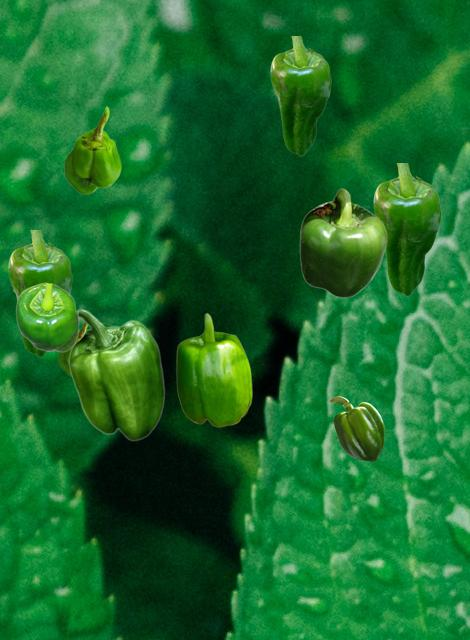bell_pepper: (68, 309, 164, 440), (299, 188, 386, 297), (373, 163, 440, 295), (176, 313, 251, 426), (8, 230, 71, 356), (270, 36, 330, 155), (64, 106, 120, 193), (15, 282, 78, 351), (329, 396, 383, 460), (58, 322, 87, 375)
